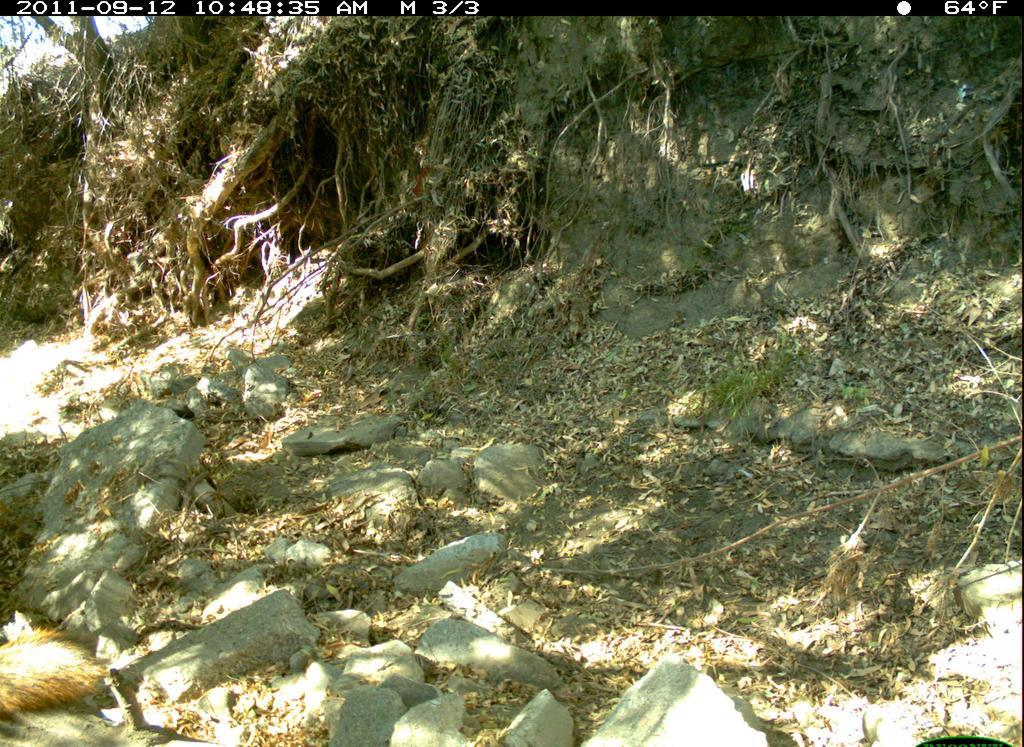squirrel: (1, 621, 112, 721)
